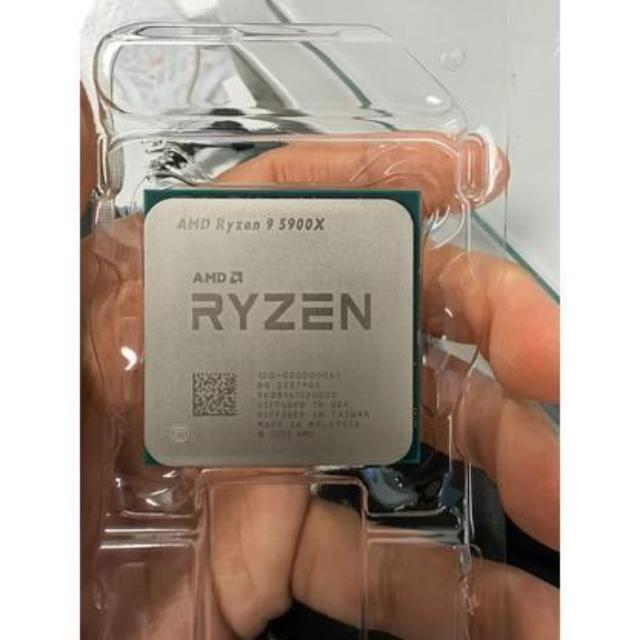CPU: (138, 192, 416, 470)
